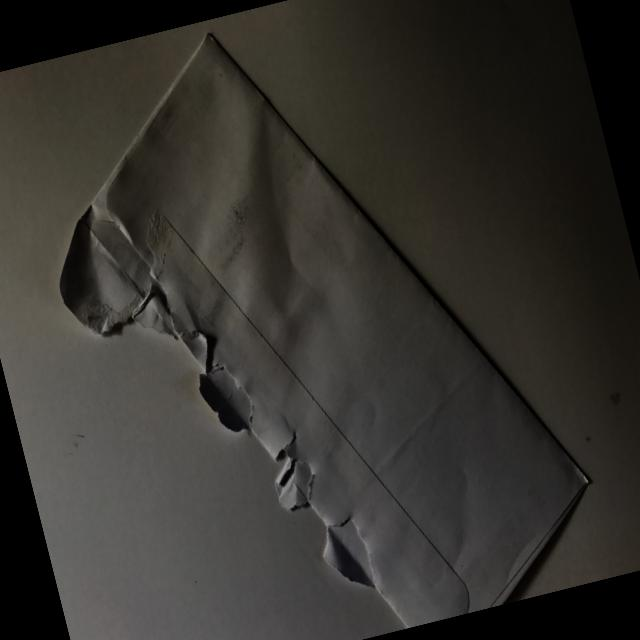Paper: (8, 0, 613, 640)
